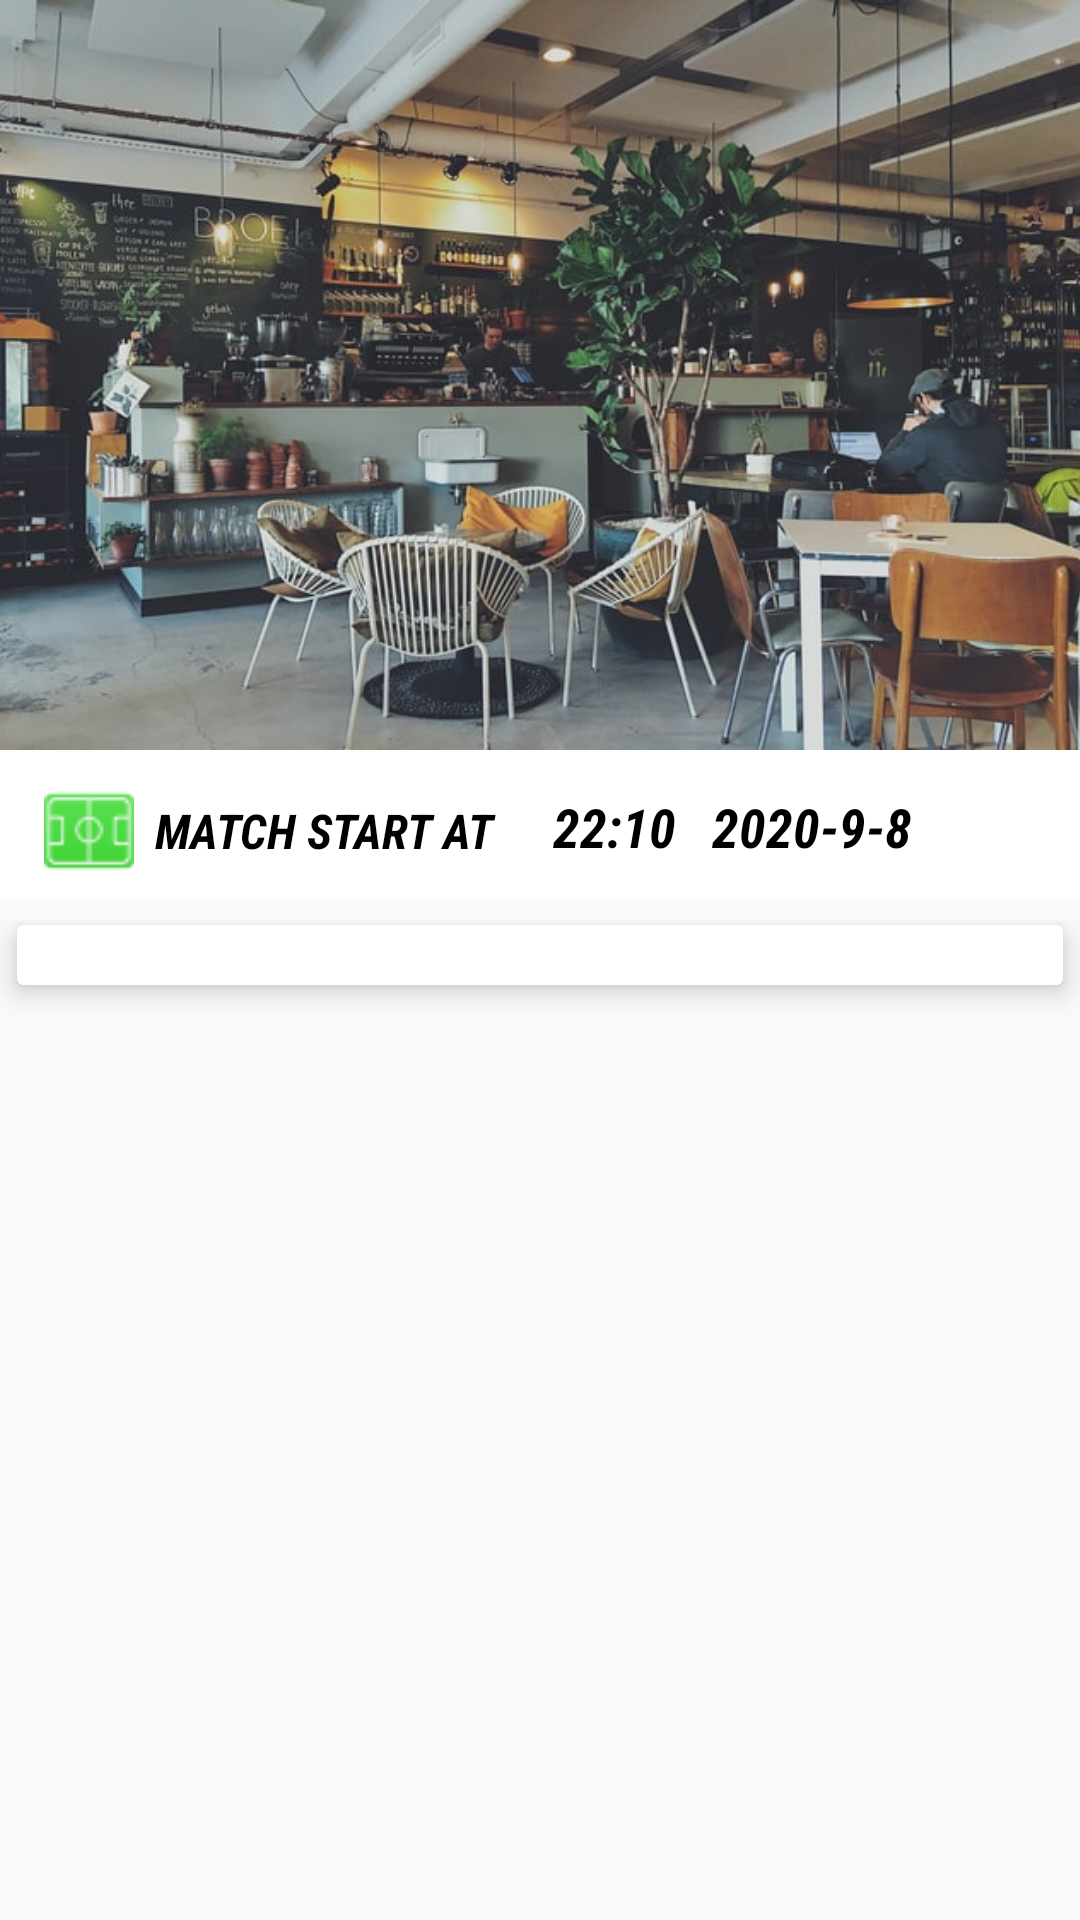

Where icons sit on this 1080x1920 app screen, as BBox(x1, y1, x2, y2):
sporticon: BBox(44, 793, 134, 870)
